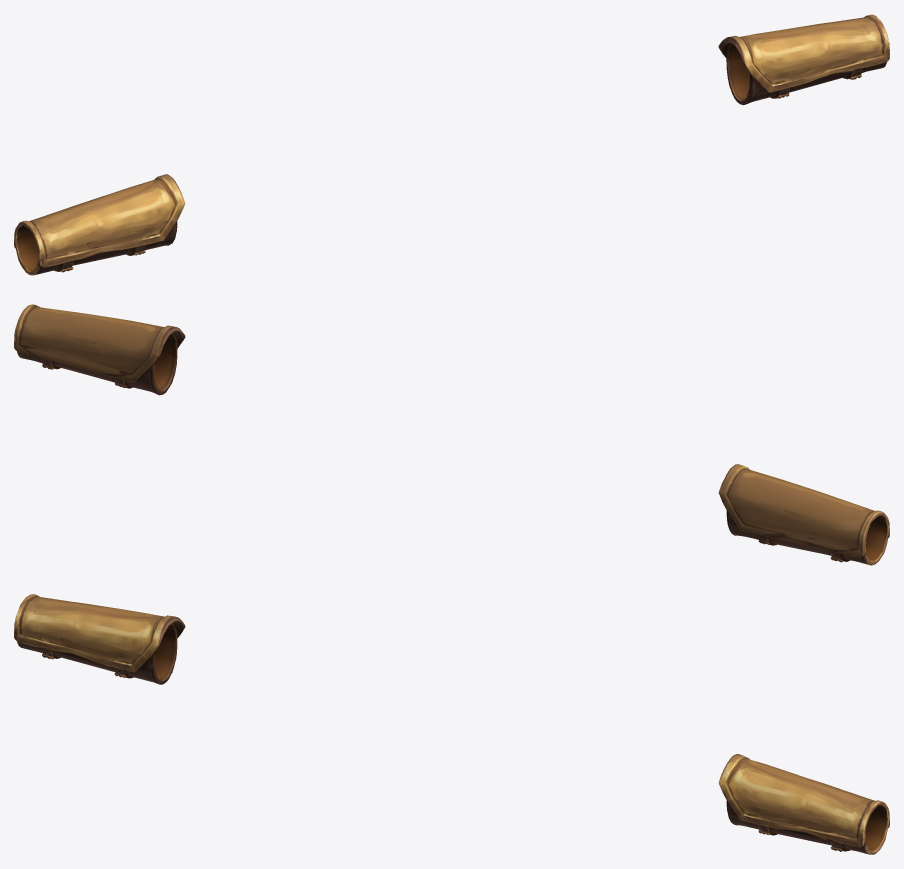
Rendered from berserk_f_vambraces.glb.
The picture shows the model from 3 angles, top to bottom: view 1: azimuth 30°, elevation 25°; view 2: azimuth 150°, elevation 25°; view 3: azimuth 330°, elevation 25°; orthographic projection.
Visible parts, largest first — view 1: model; view 2: model; view 3: model.
Boxes of the visible parts, <box> form: model: <box>14,14,889,275</box>; model: <box>14,304,889,565</box>; model: <box>14,594,889,854</box>.
Size of the model in its own units: 1.34 by 0.1017 by 0.0801.
Materials: 1 (1 with a texture image).
